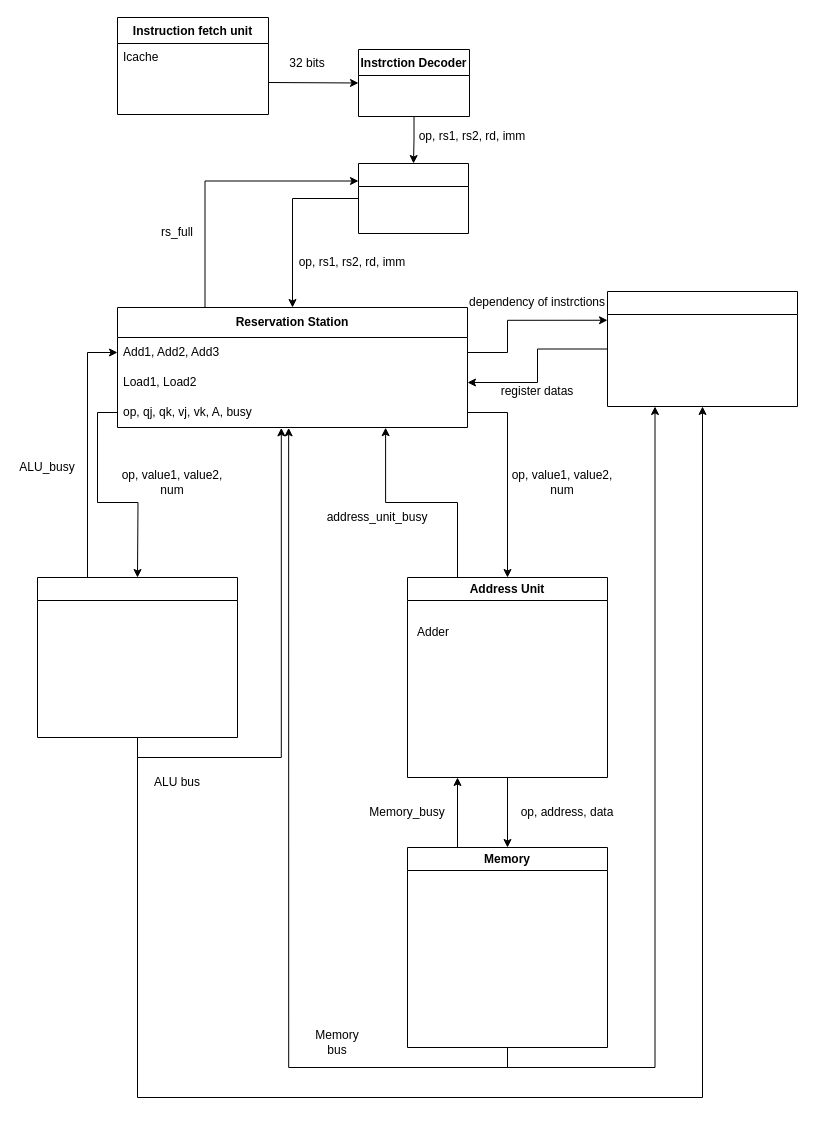
This 815x1123 diagram has some shape labels left out. The centre of each missing label's shape, as x and y in pixels:
"ALU" belongs at pixel 137 657.
"Instrction Queue" belongs at pixel 413 198.
"Register files" belongs at pixel 702 348.
